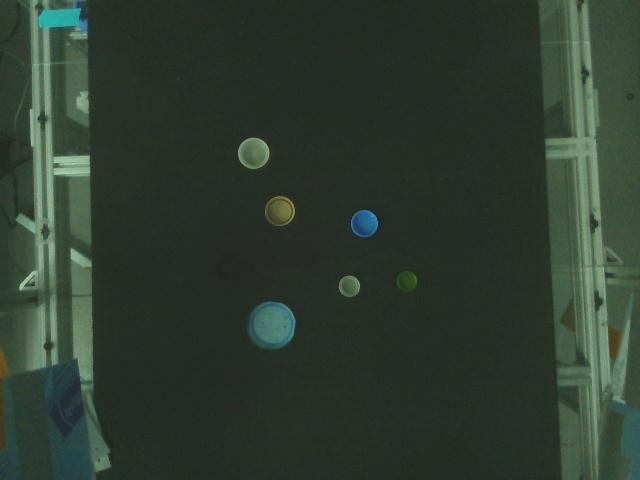metal: (243, 298, 301, 353)
plastic: (236, 135, 272, 171), (263, 193, 298, 229), (349, 208, 380, 240), (212, 256, 240, 283), (337, 273, 363, 300), (395, 269, 419, 294)
